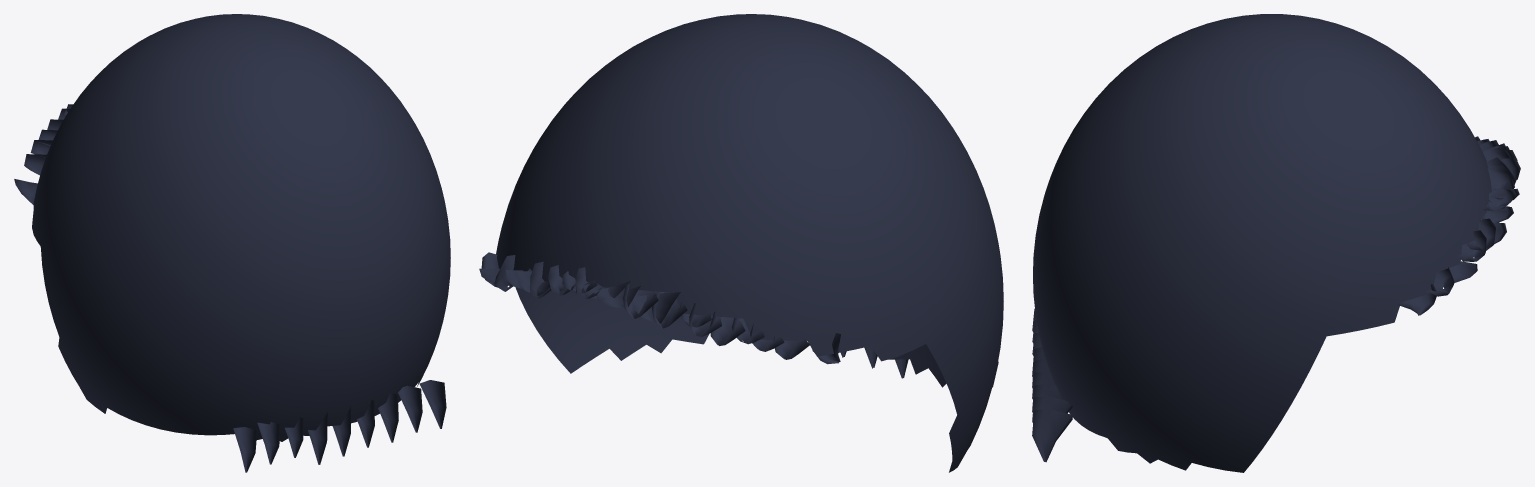
Rendered from anime_hair_shaved.glb.
3 views of the same model, side by side, from view 1: azimuth 30°, elevation 25°; view 2: azimuth 150°, elevation 25°; view 3: azimuth 270°, elevation 25° (orthographic). The views are drawn at different scales.
Parts seen in each view (by area): view 1: hair_cap, hair; view 2: hair_cap, hair; view 3: hair_cap, hair.
Part boxes in pixels (x1,y1,x2,y2): hair_cap: (32,14,450,441); hair: (14,104,446,472); hair_cap: (496,14,1003,472); hair: (479,252,998,387); hair_cap: (1033,14,1491,472); hair: (1032,136,1520,462).
Size of the model in its own units: 0.2693 by 0.2511 by 0.289.
